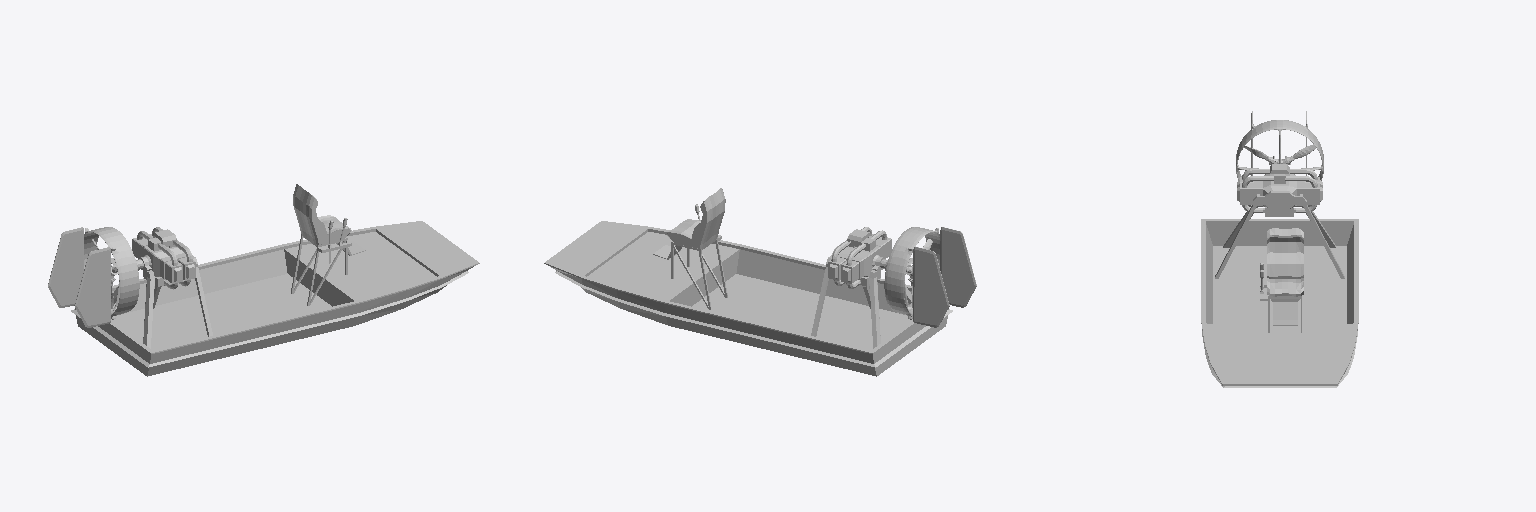
File: airboat.obj
The picture shows the model from 3 angles: view 1: azimuth 30°, elevation 25°; view 2: azimuth 150°, elevation 25°; view 3: azimuth 270°, elevation 25°; orthographic projection.
Visible parts, largest first — view 1: airboat; view 2: airboat; view 3: airboat.
Boxes of the visible parts, x1=… form: airboat: x1=48, y1=184, x2=479, y2=376; airboat: x1=544, y1=188, x2=976, y2=376; airboat: x1=1201, y1=111, x2=1358, y2=387.
Size of the model in its own units: 16.23 by 4.8 by 5.68.